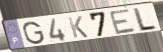4: (48, 17, 68, 42)
7: (88, 11, 108, 39)
E: (108, 8, 138, 36)
G: (22, 20, 46, 45)
K: (66, 15, 90, 40)
L: (133, 7, 158, 33)
